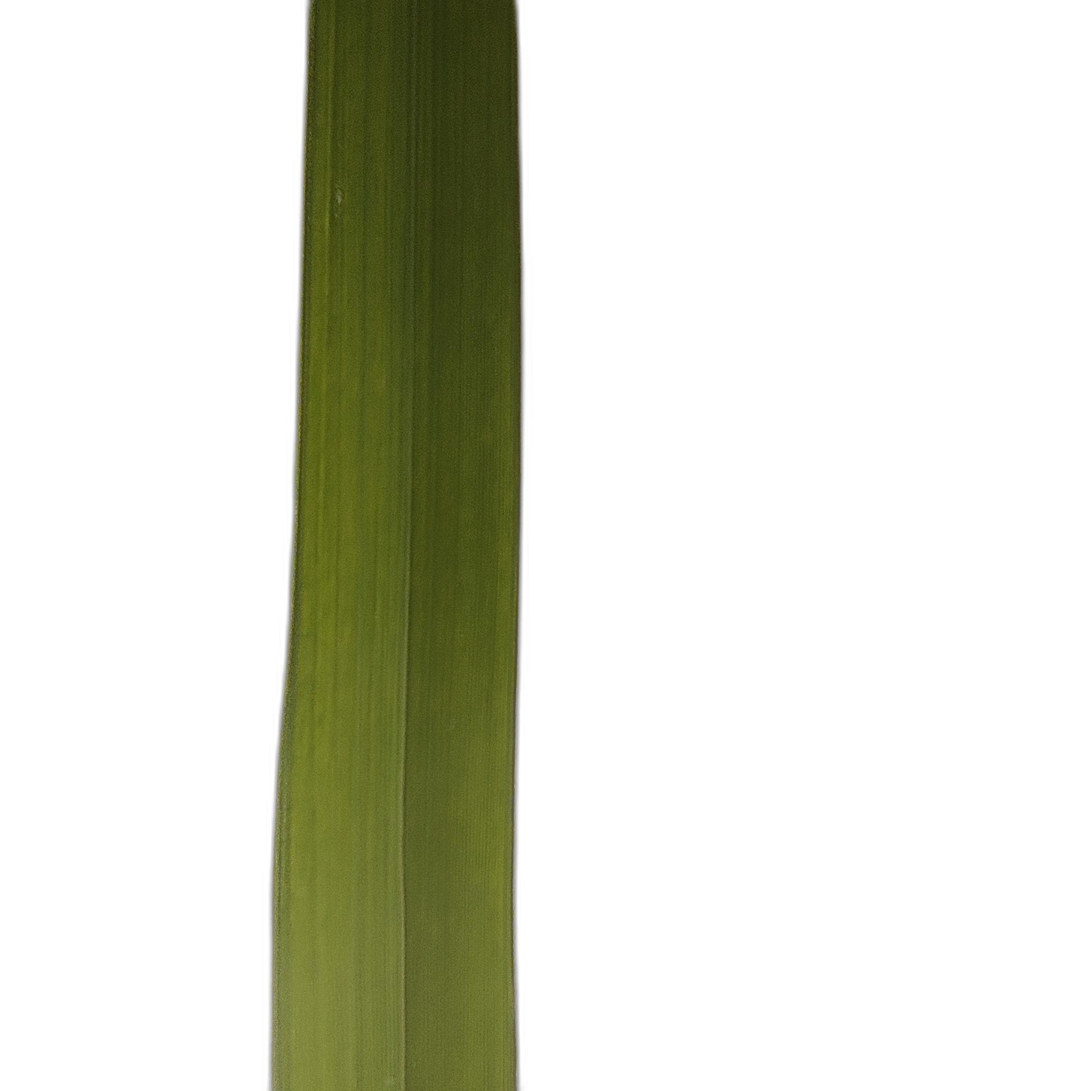Healthy: (273, 0, 521, 1090)
